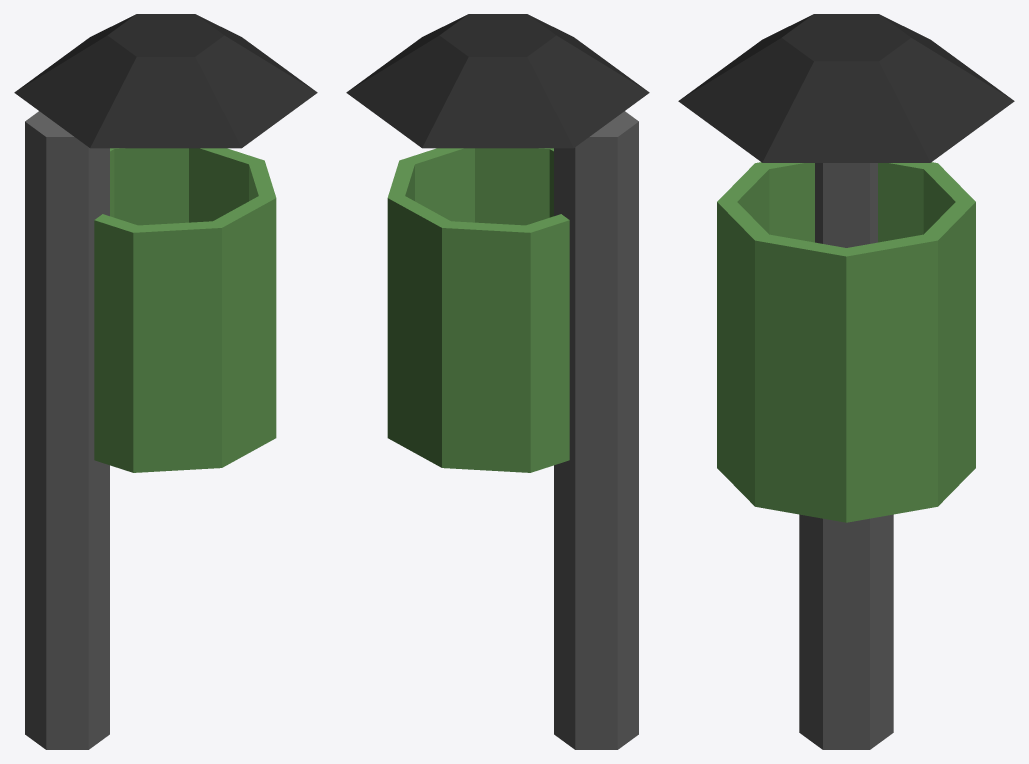
File: Śmietnik2.fbx
3 views of the same model, side by side, from view 1: azimuth 30°, elevation 25°; view 2: azimuth 150°, elevation 25°; view 3: azimuth 270°, elevation 25° (orthographic). The views are drawn at different scales.
Parts seen in each view (by area): view 1: Śmietnik; view 2: Śmietnik; view 3: Śmietnik.
Part boxes in pixels (x1,y1,x2,y2): Śmietnik: (14,14,317,749); Śmietnik: (346,14,649,749); Śmietnik: (678,14,1014,749).
Bounding box in the file's own units: 324 × 854 × 348.
